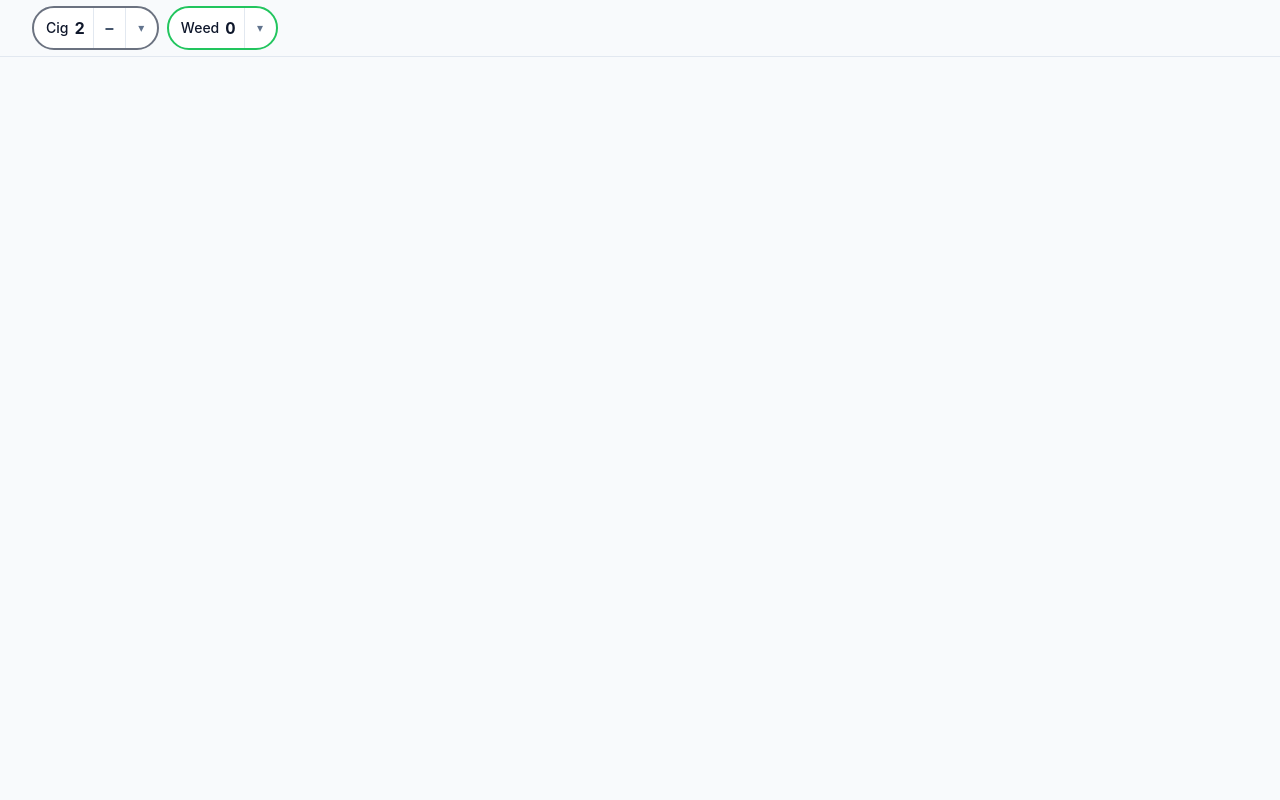
Test: counter pills › one tap records +1 now, and offers Undo
Click the button with aria-label "Cigarette": (63, 28) [34,8,93,48]
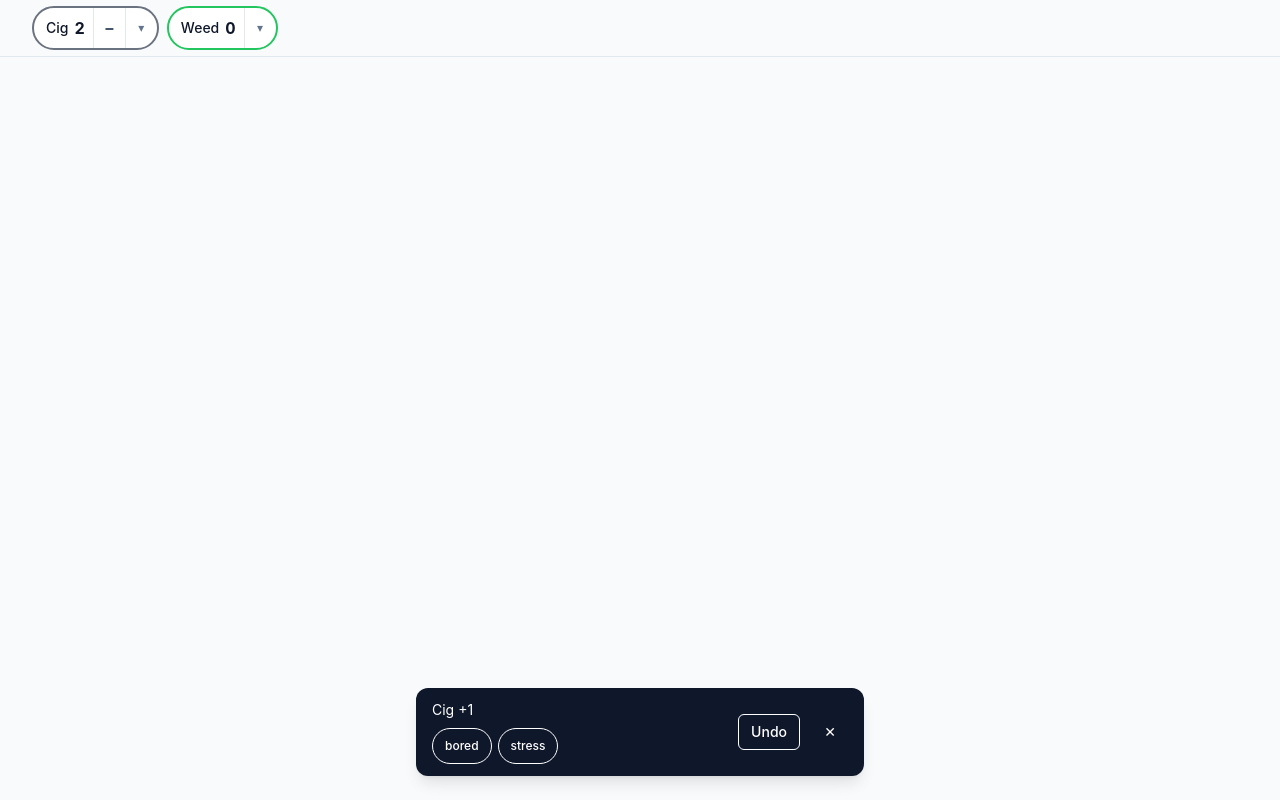
Check: the message shows "Cig +1", box [432,701,473,718]
Check: the button "Undo" is shown, box [738,714,800,750]
